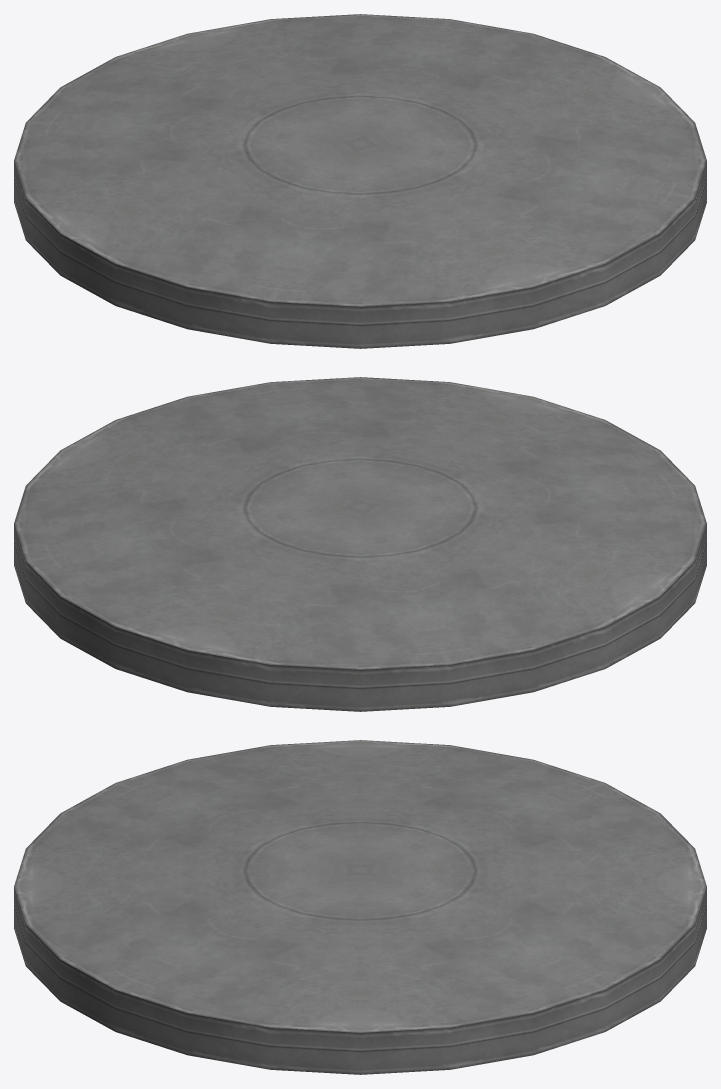
Rendered from rotanev_cap_s1p5_1.obj.
The picture shows the model from 3 angles, top to bottom: view 1: azimuth 30°, elevation 25°; view 2: azimuth 150°, elevation 25°; view 3: azimuth 270°, elevation 25°; orthographic projection.
Parts seen in each view (by area): view 1: 2; view 2: 2; view 3: 2.
Boxes of the visible parts, box(x1,y1,x2,y2) form: 2: box(14, 14, 706, 348); 2: box(14, 377, 706, 711); 2: box(14, 740, 706, 1074).
Size of the model in its own units: 1.88 by 0.175 by 1.88.
1 material, 1 textured.
